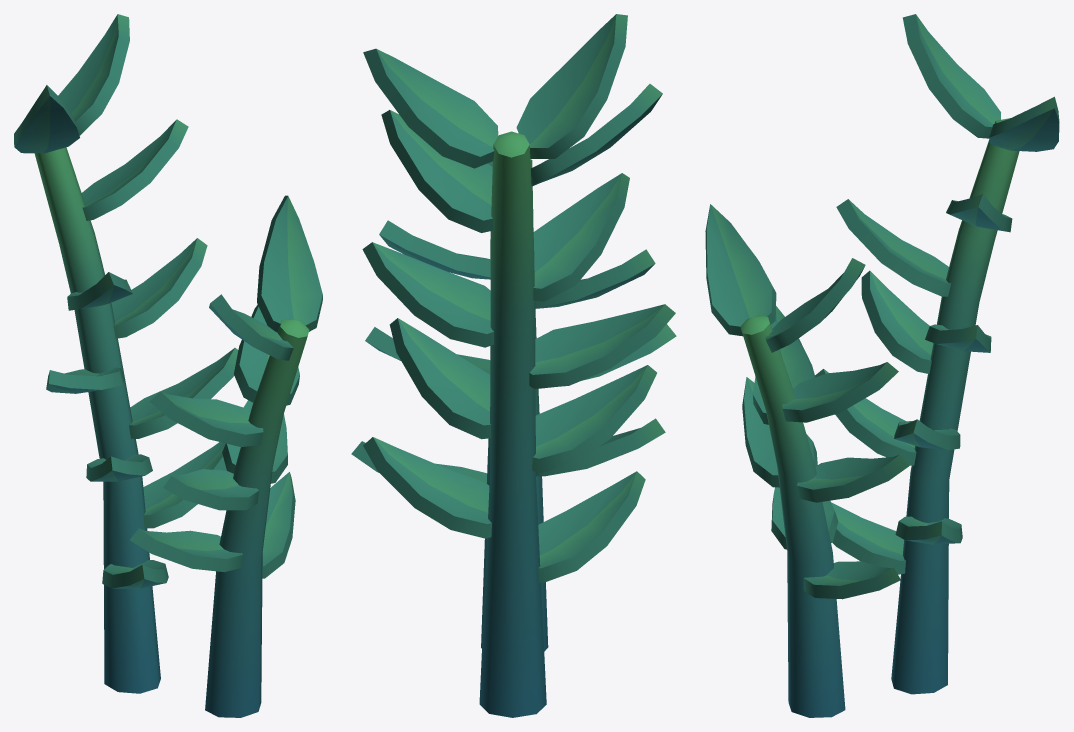
File: Small ZZ Plant.glb
3 views of the same model, side by side, from view 1: azimuth 30°, elevation 25°; view 2: azimuth 150°, elevation 25°; view 3: azimuth 270°, elevation 25° (orthographic). The views are drawn at different scales.
Visible parts, largest first — view 1: zzplant_plant_small; view 2: zzplant_plant_small; view 3: zzplant_plant_small.
Boxes of the visible parts, x1=… form: zzplant_plant_small: x1=14, y1=14, x2=322, y2=717; zzplant_plant_small: x1=351, y1=14, x2=676, y2=717; zzplant_plant_small: x1=705, y1=14, x2=1059, y2=717.
Size of the model in its own units: 0.4795 by 1.08 by 0.5554.
1 material, 1 textured.
